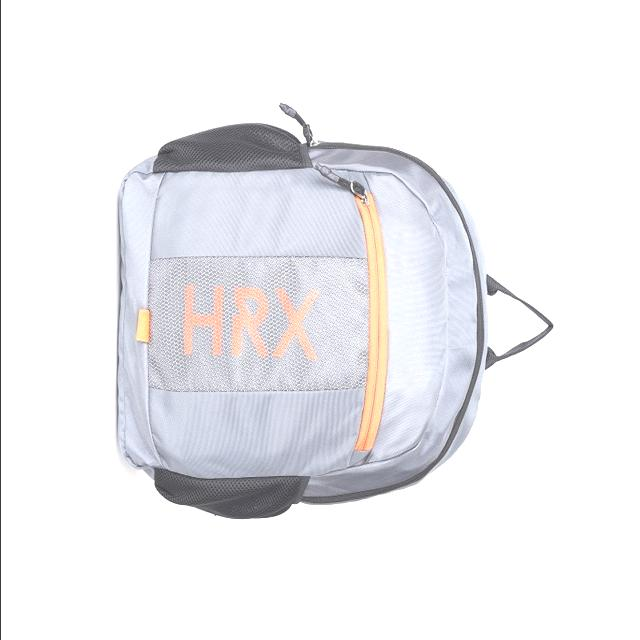backpack: (117, 104, 555, 521)
